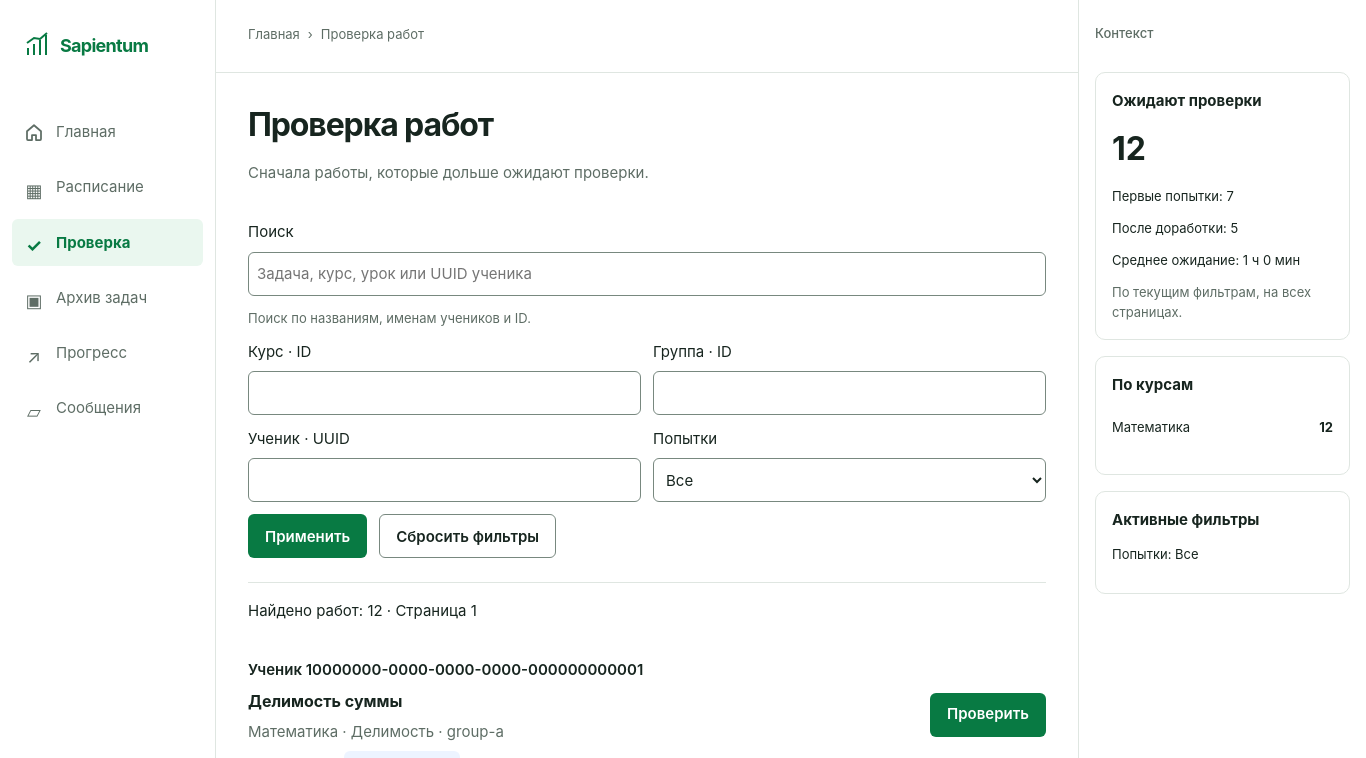
Test: Teacher Review Queue › resets unapplied form input too
Step 1. Type "unsaved" into the search field labelled "Поиск" → (647, 274), box 248,252 -> 1046,296
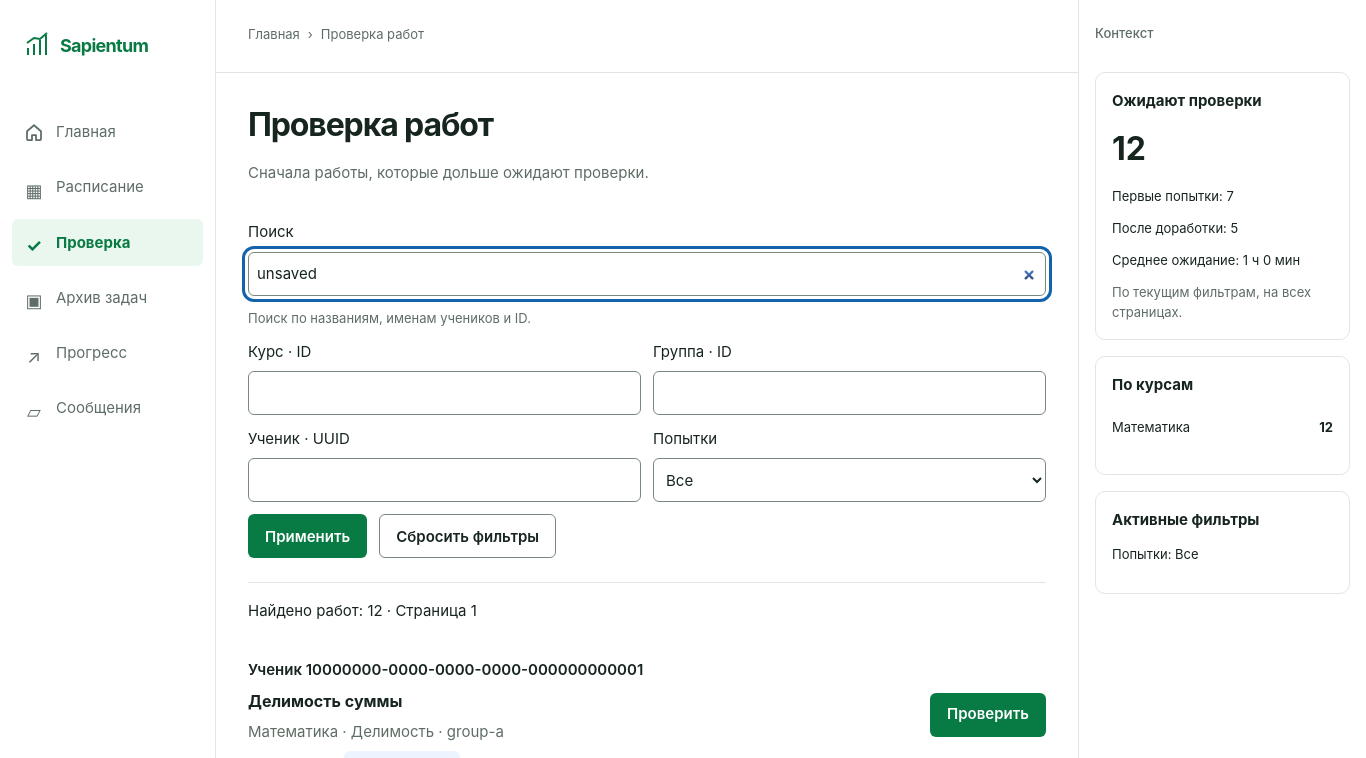
Step 2. Click the button "Сбросить фильтры" → (468, 536), box 379,514 -> 556,558
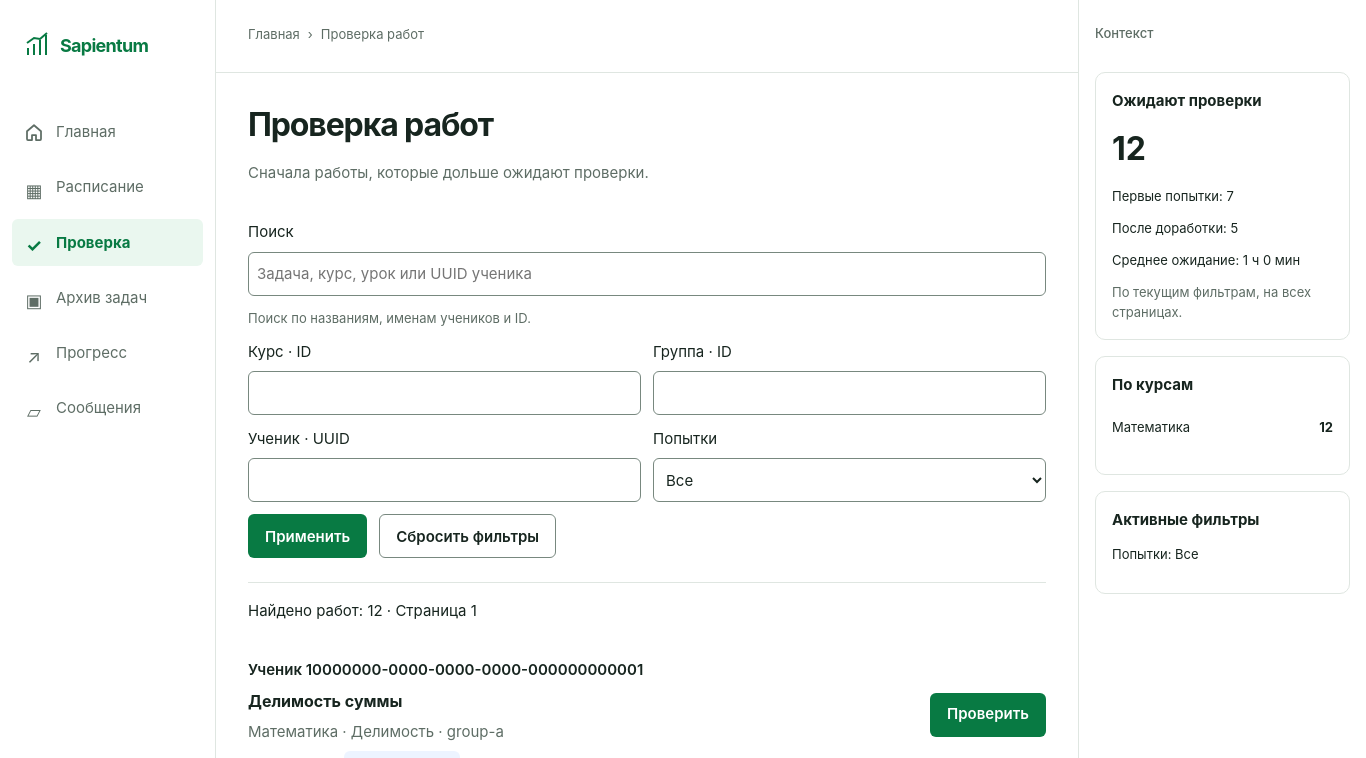
expect the search field labelled "Поиск" is empty: met, box 248,252 -> 1046,296
